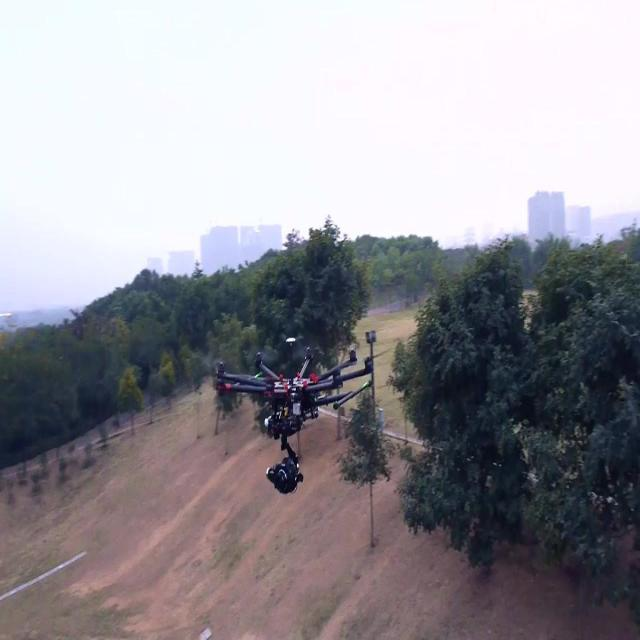drone: (210, 334, 374, 497)
